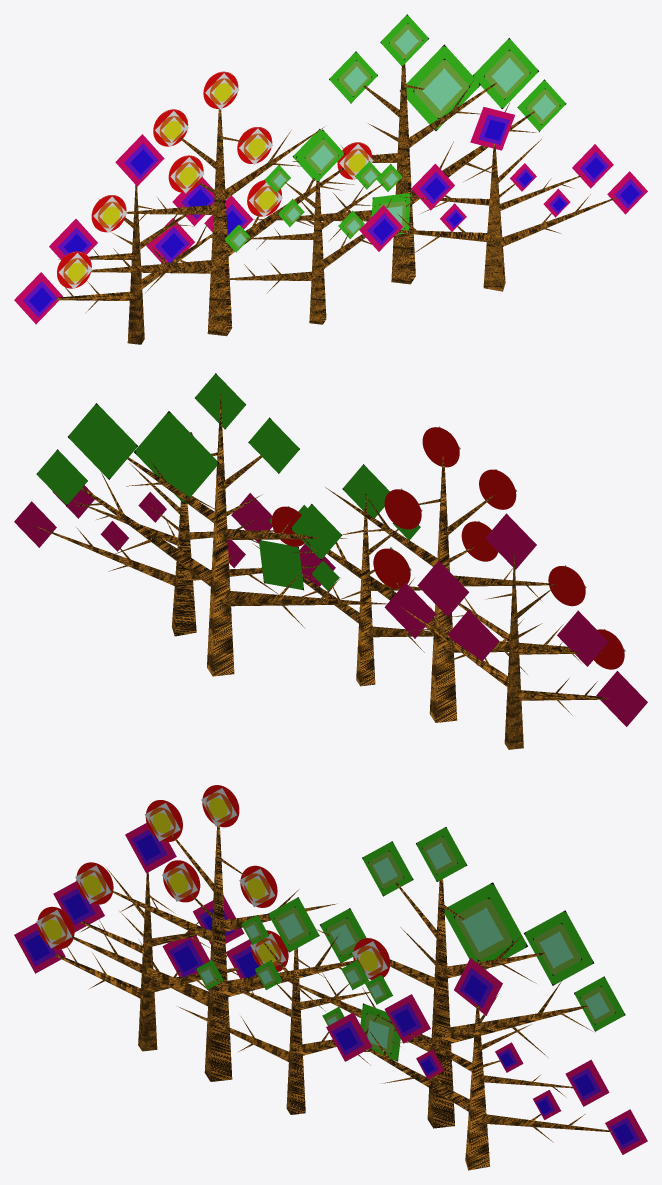
The model's file is Tree_Leaves_New_3.obj.
3 views of the same model, one above another, from view 1: azimuth 30°, elevation 25°; view 2: azimuth 150°, elevation 25°; view 3: azimuth 330°, elevation 25° (orthographic). The views are drawn at different scales.
Parts seen in each view (by area): view 1: polySurface2, polySurface3, polySurface4, polySurface1, pPlane106, pPyramid24, pPlane112, pPlane105, pPlane104, pPlane55, pPlane52, pPlane49 (+14 smaller); view 2: polySurface3, polySurface2, polySurface4, pPlane106, polySurface1, pPlane112, pPyramid24, pPlane148, pPlane109, pPlane58, pPlane158, pPlane52 (+20 smaller); view 3: polySurface2, polySurface3, polySurface4, polySurface1, pPlane106, pPyramid24, pPlane112, pPlane105, pPlane104, pPlane49, pPlane55, pPlane58 (+13 smaller).
Part boxes in pixels (left/top/right/bottom): polySurface2: left=91, top=108, right=354, bottom=336; polySurface3: left=252, top=64, right=539, bottom=284; polySurface4: left=364, top=139, right=616, bottom=291; polySurface1: left=211, top=180, right=416, bottom=324; pPlane106: left=400, top=44, right=480, bottom=130; pPyramid24: left=127, top=185, right=144, bottom=344; pPlane112: left=472, top=38, right=538, bottom=109; pPlane105: left=413, top=58, right=469, bottom=119; pPlane104: left=423, top=68, right=461, bottom=110; pPlane55: left=380, top=14, right=429, bottom=66; pPlane52: left=115, top=134, right=164, bottom=186; pPlane49: left=296, top=129, right=344, bottom=181; polySurface3: left=66, top=394, right=386, bottom=676; polySurface2: left=290, top=455, right=571, bottom=722; polySurface4: left=30, top=463, right=317, bottom=636; pPlane106: left=134, top=411, right=219, bottom=504; polySurface1: left=252, top=488, right=433, bottom=686; pPlane112: left=68, top=403, right=137, bottom=479; pPyramid24: left=504, top=553, right=523, bottom=749; pPlane148: left=259, top=540, right=303, bottom=590; pPlane109: left=36, top=449, right=87, bottom=505; pPlane58: left=248, top=417, right=299, bottom=473; pPlane158: left=417, top=561, right=468, bottom=616; pPlane52: left=485, top=513, right=536, bottom=569; polySurface2: left=71, top=825, right=355, bottom=1081; polySurface3: left=288, top=879, right=592, bottom=1128; polySurface4: left=331, top=1004, right=612, bottom=1170; polySurface1: left=178, top=935, right=400, bottom=1114; pPlane106: left=444, top=882, right=527, bottom=969; pPyramid24: left=138, top=872, right=157, bottom=1051; pPlane112: left=524, top=910, right=593, bottom=985; pPlane105: left=454, top=897, right=513, bottom=961; pPlane104: left=462, top=908, right=503, bottom=952; pPlane49: left=268, top=897, right=319, bottom=952; pPlane55: left=416, top=827, right=467, bottom=881; pPlane58: left=362, top=841, right=413, bottom=896.
Size of the model in its own units: 508 by 215 by 67.47.
Materials: 10 (10 with a texture image).
